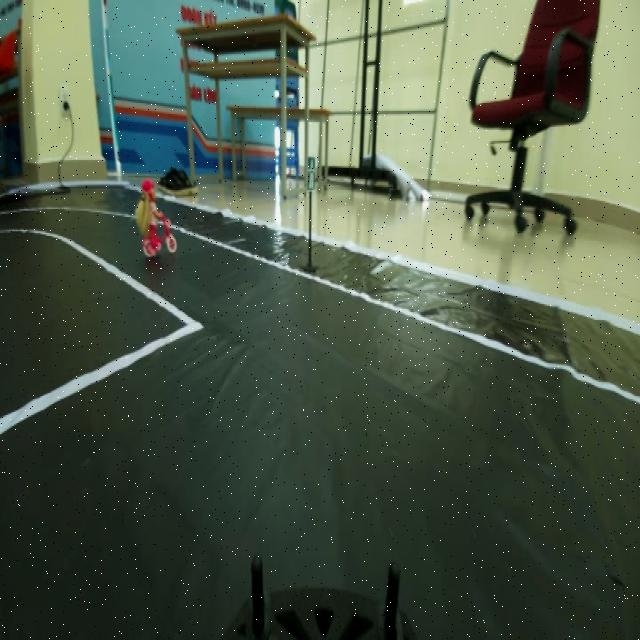highway_entry: (297, 154, 323, 195)
pedestrian: (126, 178, 184, 259)
